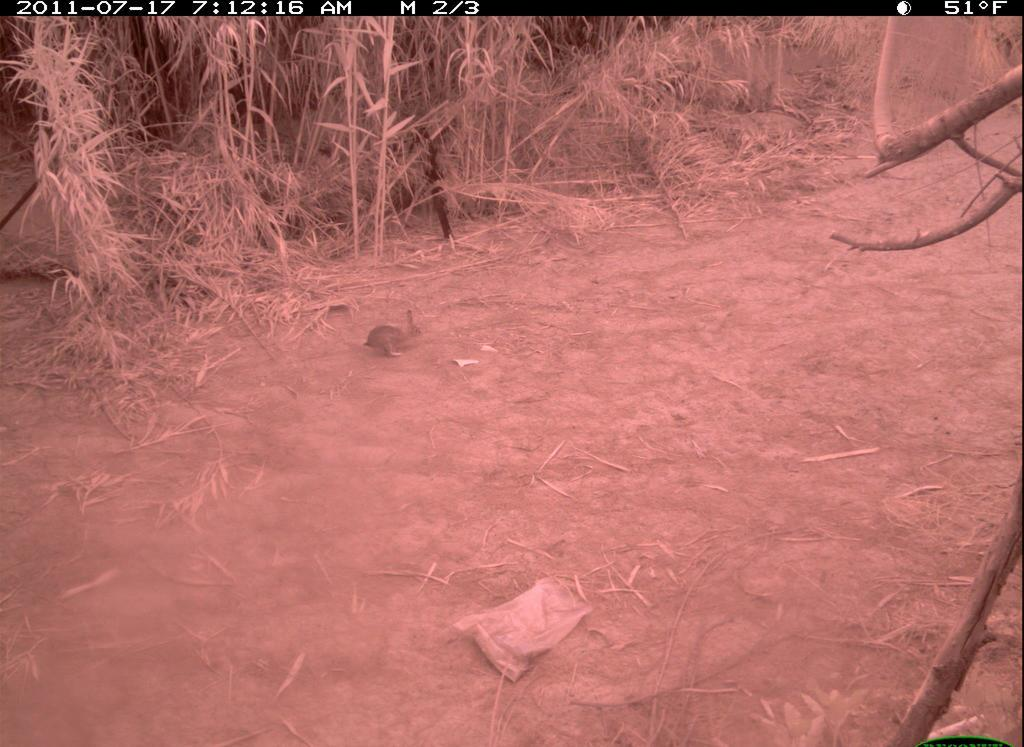rabbit: (356, 299, 437, 377)
